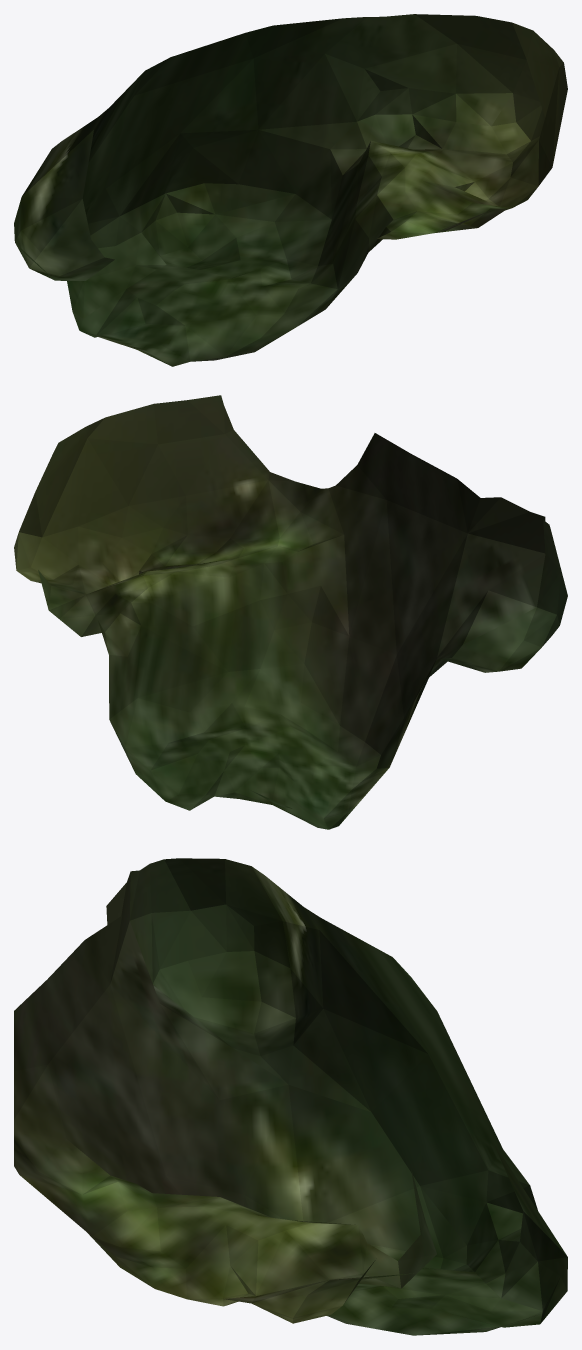
The picture shows the model from 3 angles, top to bottom: view 1: azimuth 30°, elevation 25°; view 2: azimuth 150°, elevation 25°; view 3: azimuth 270°, elevation 25°; orthographic projection. The views are drawn at different scales.
Bounding box in the file's own units: 1.75 × 0.8267 × 1.22.
1 material, 1 textured.
